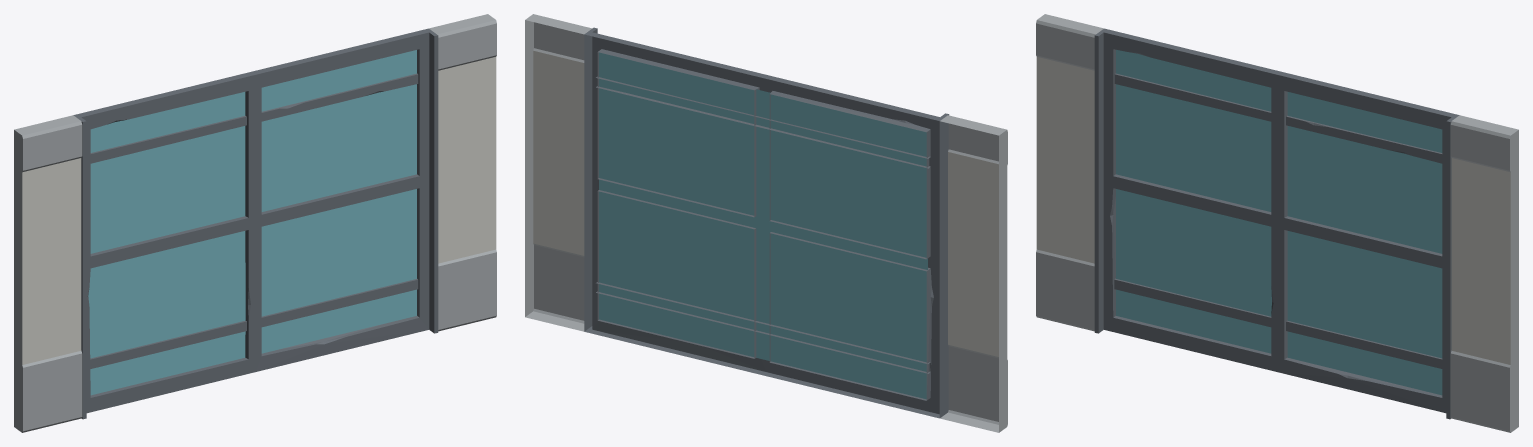
The model's file is Wall_Window_01.FBX.
3 renders of one model, left to right at view 1: azimuth 30°, elevation 25°; view 2: azimuth 150°, elevation 25°; view 3: azimuth 330°, elevation 25°, orthographic.
Parts seen in each view (by area): view 1: Wall_Window_01, SM_Bld_Wall_Baseboard_Window_03_Glass; view 2: SM_Bld_Wall_Baseboard_Window_03_Glass, Wall_Window_01; view 3: Wall_Window_01, SM_Bld_Wall_Baseboard_Window_03_Glass.
Boxes of the visible parts, x1=… form: Wall_Window_01: x1=14, y1=14, x2=496, y2=432; SM_Bld_Wall_Baseboard_Window_03_Glass: x1=88, y1=50, x2=416, y2=395; SM_Bld_Wall_Baseboard_Window_03_Glass: x1=599, y1=52, x2=927, y2=399; Wall_Window_01: x1=525, y1=14, x2=1007, y2=432; Wall_Window_01: x1=1036, y1=14, x2=1518, y2=432; SM_Bld_Wall_Baseboard_Window_03_Glass: x1=1116, y1=49, x2=1442, y2=395.
Size of the model in its own units: 500 by 300 by 17.34.
